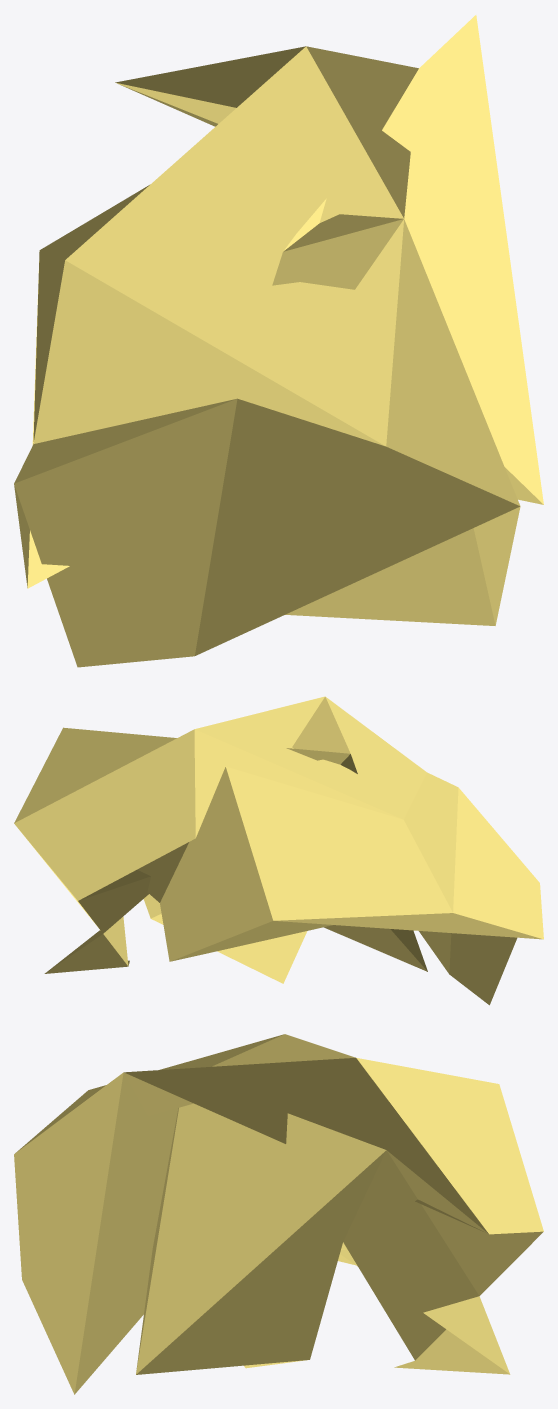
Rendered from paper1.fbx.
3 renders of one model, top to bottom at view 1: azimuth 30°, elevation 25°; view 2: azimuth 150°, elevation 25°; view 3: azimuth 270°, elevation 25°, orthographic. The views are drawn at different scales.
Parts seen in each view (by area): view 1: Paper; view 2: Paper; view 3: Paper.
Part boxes in pixels (x1,y1,x2,y2): Paper: [14, 15, 543, 667]; Paper: [14, 696, 543, 1005]; Paper: [14, 1034, 543, 1394].
Size of the model in its own units: 151 by 104 by 147.
